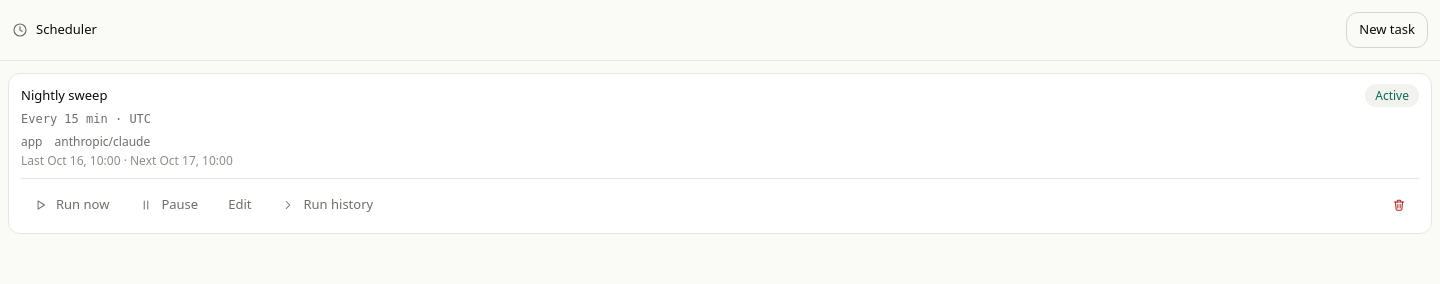
it: SchedulerPanel › keeps the failure readable when the run history cannot load
expect the text "Nightly sweep" is shown: met, box [21, 86, 107, 104]
Click the button "Run history".
click(327, 205)  # box [268, 187, 386, 223]
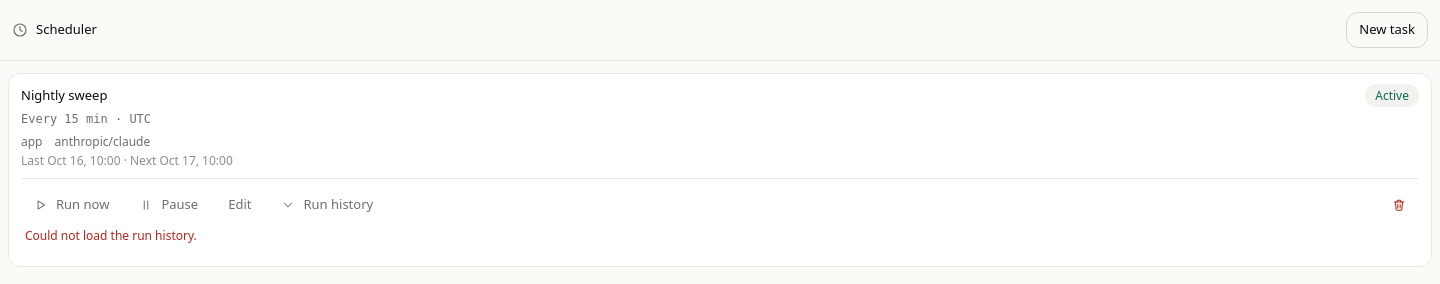
expect the text "Could not load the run history." is shown: met, box [25, 227, 197, 244]
